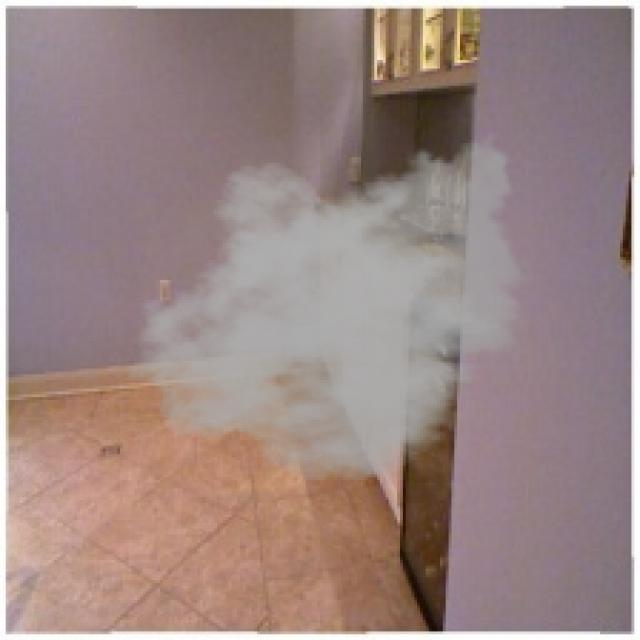smoke: (123, 126, 537, 483)
